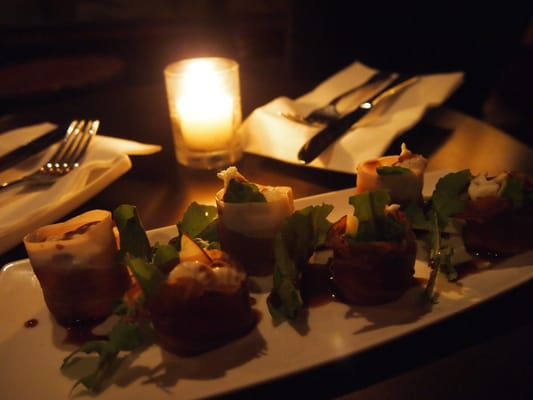burger: (1, 118, 100, 192)
pizza: (22, 209, 132, 342), (163, 56, 244, 173)
